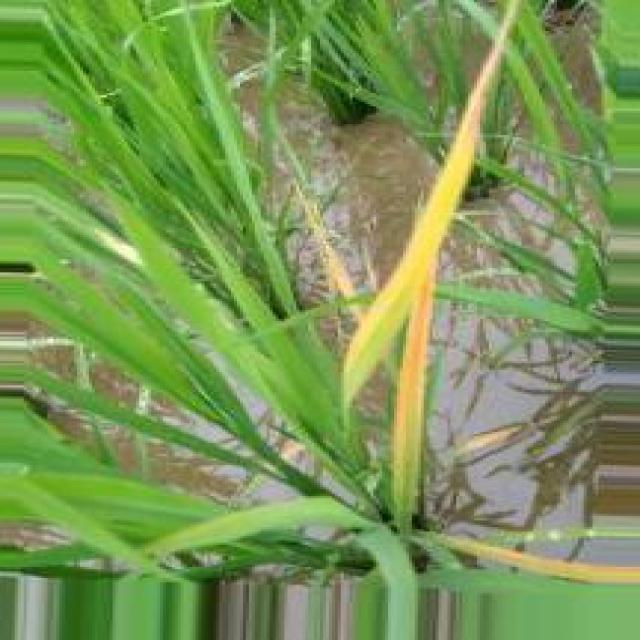Rice Tungro: (341, 20, 508, 404), (390, 260, 436, 529), (435, 536, 639, 583), (299, 190, 356, 298)
